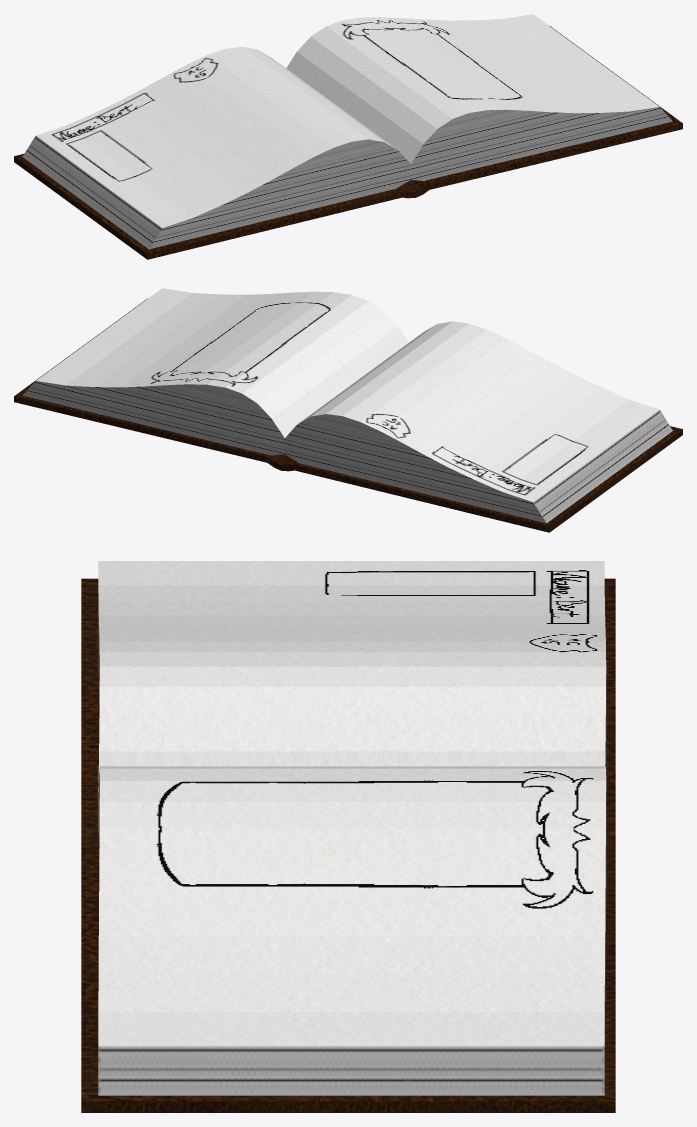
File: BreizerBook.fbx
3 renders of one model, top to bottom at view 1: azimuth 30°, elevation 25°; view 2: azimuth 150°, elevation 25°; view 3: azimuth 270°, elevation 25°, orthographic. The views are drawn at different scales.
Parts seen in each view (by area): view 1: Pages, Side, Back, SidePages; view 2: Pages, Side, Back, SidePages; view 3: Pages, SidePages, Back.
Boxes of the visible parts, box(x1,y1,x2,y2) form: Pages: box(36, 14, 659, 227); Side: box(149, 107, 672, 249); Back: box(14, 25, 682, 259); SidePages: box(22, 136, 161, 249); Pages: box(36, 288, 659, 501); Side: box(22, 381, 546, 523); Back: box(14, 298, 682, 532); SidePages: box(533, 409, 672, 523); Pages: box(98, 561, 606, 1046); SidePages: box(98, 1046, 604, 1095); Back: box(81, 578, 615, 1112).
Bounding box in the file's own units: 430 × 51.76 × 186.
